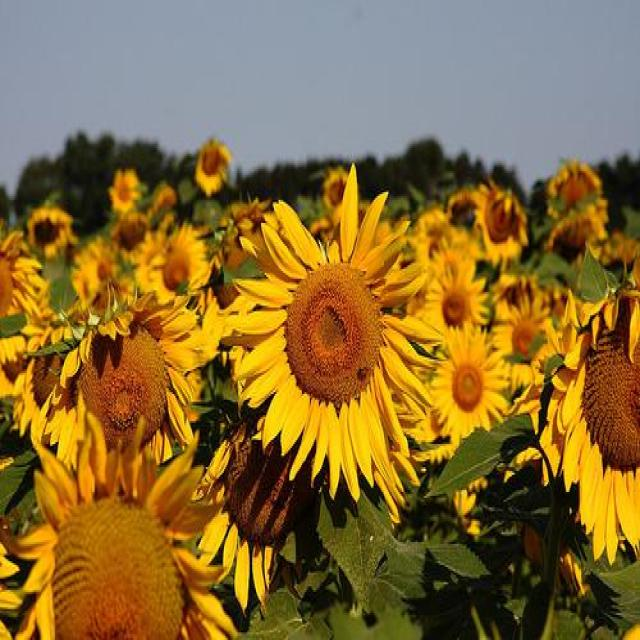sunflower: (225, 164, 433, 503), (25, 423, 239, 640)
